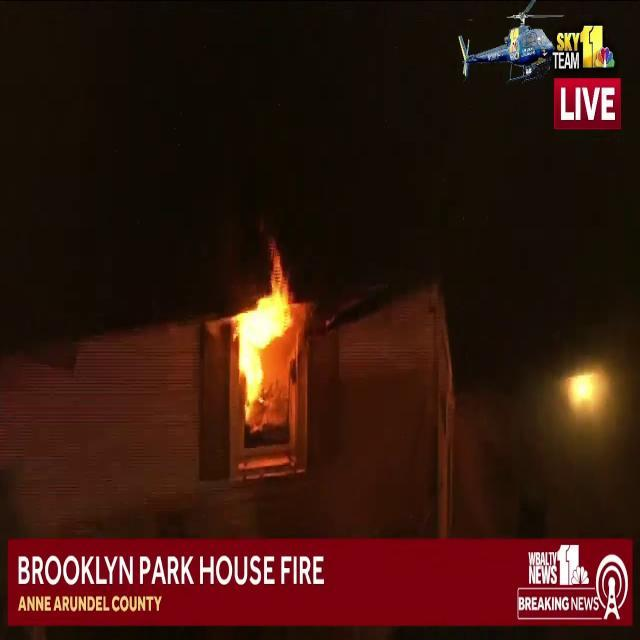Fire: (216, 232, 310, 418)
